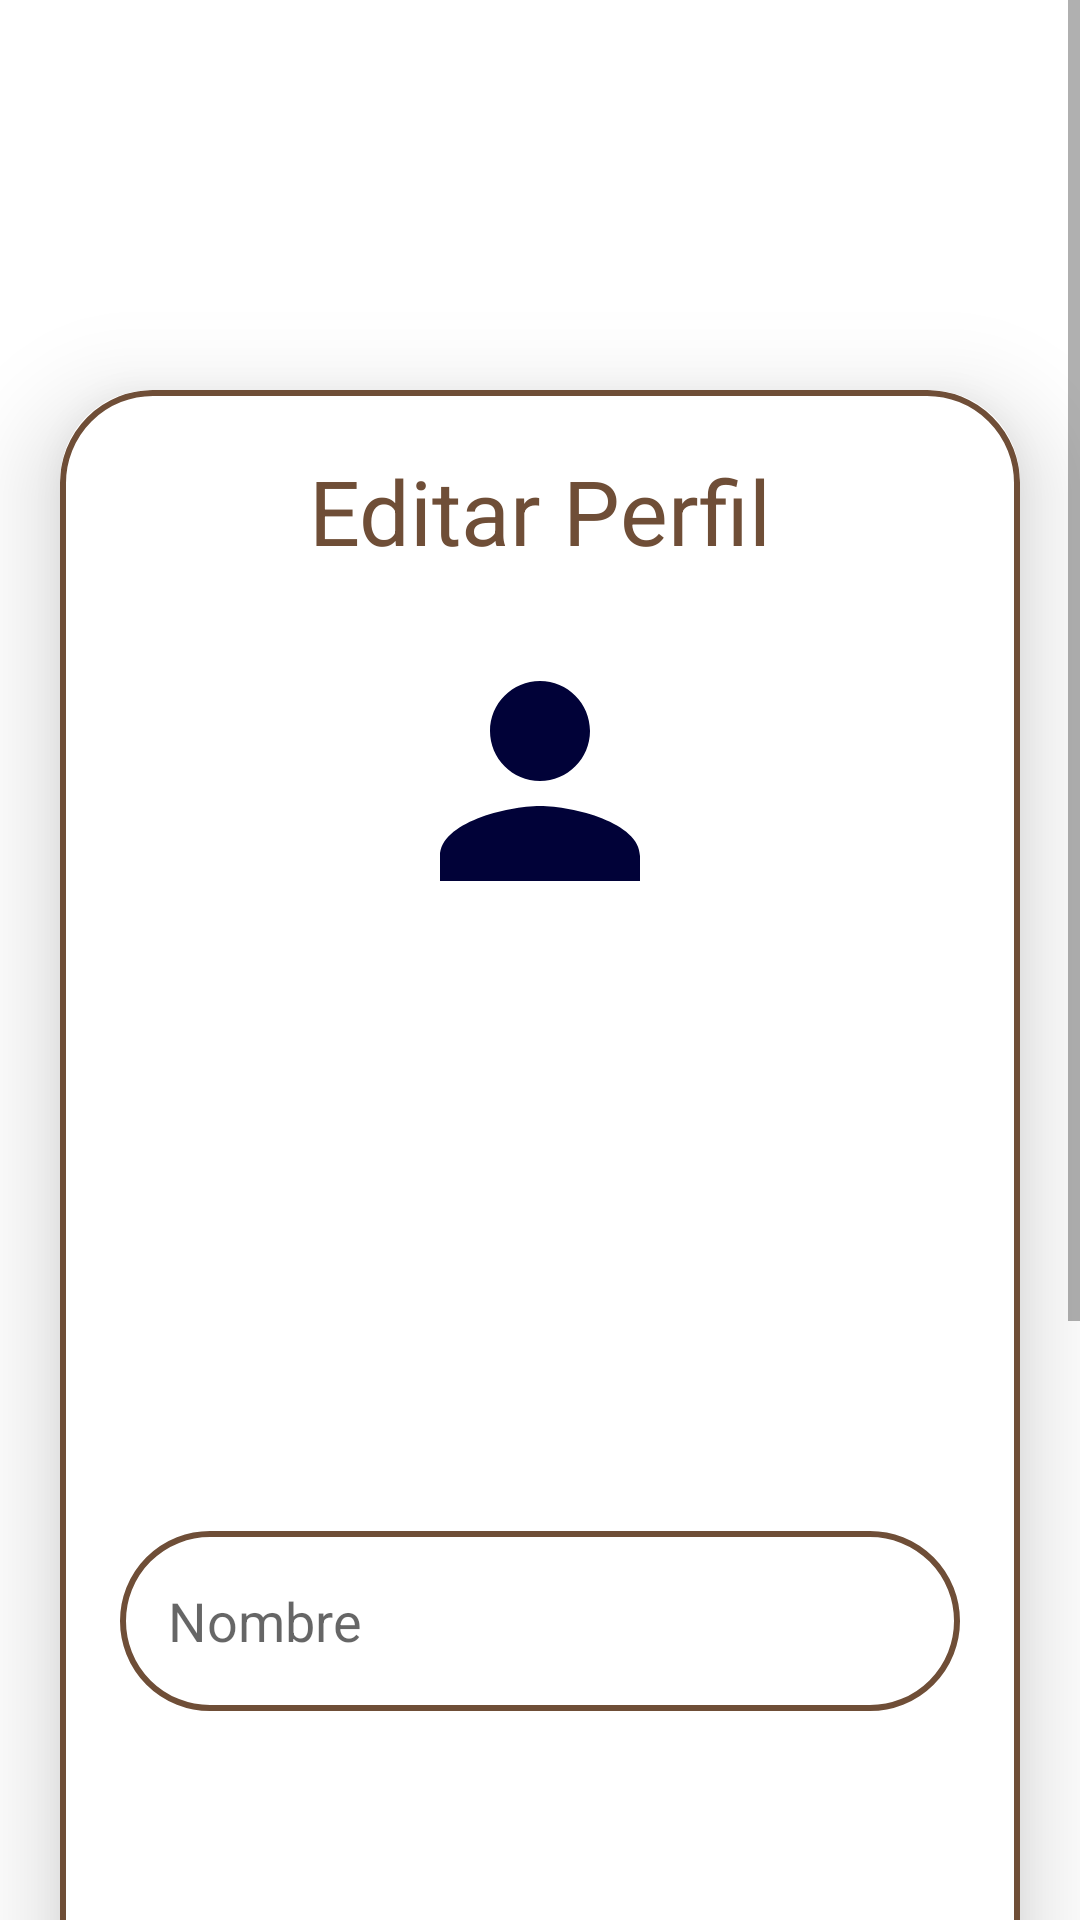

Where icons sit on this 1080x1920 app screen, as [x1, y1, x2, y2]:
person: [440, 681, 640, 881]
